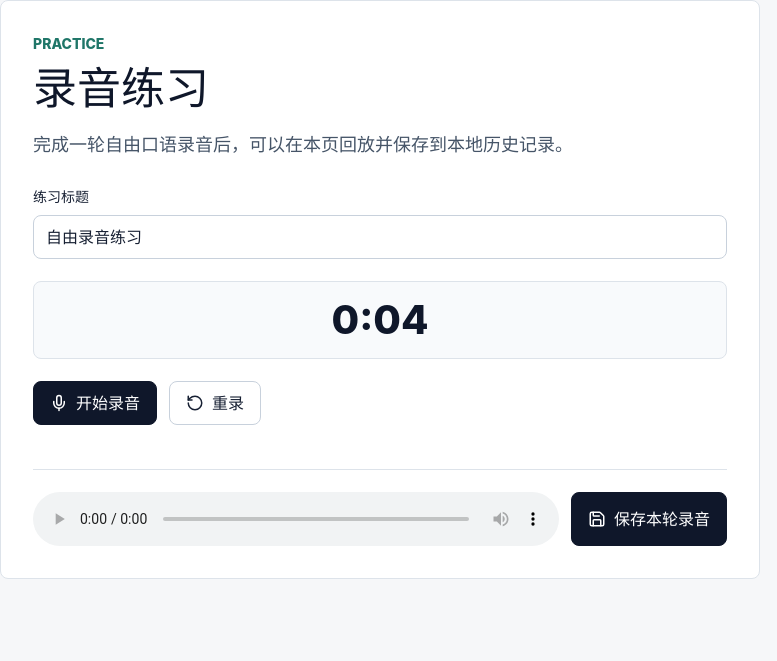
Test: PracticePage recording flow › prevents duplicate saves for the same recording
This screenshot has width=777, height=661.
Click the button "保存本轮录音": (649, 519) [571,492,727,546]
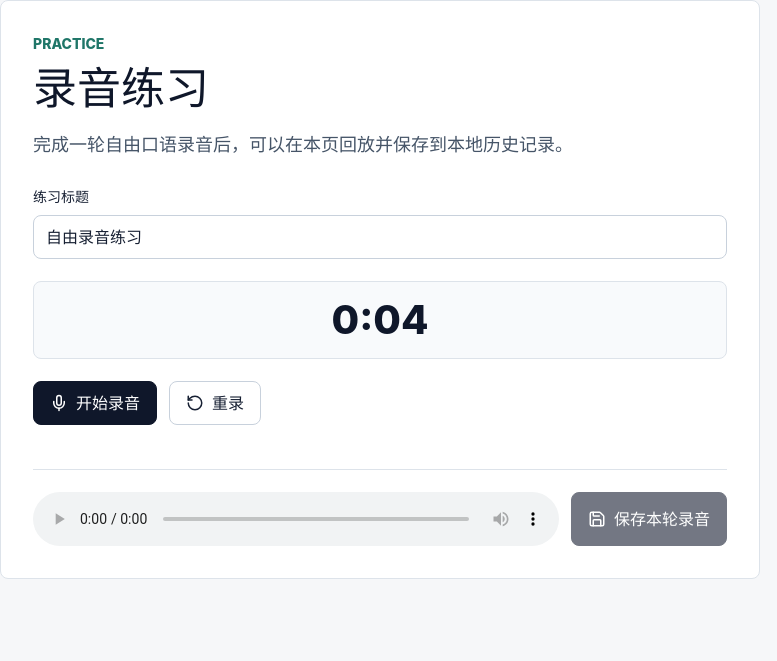
expect the button "保存本轮录音" is disabled: met
Click the button "保存本轮录音": (649, 519) [571,492,727,546]
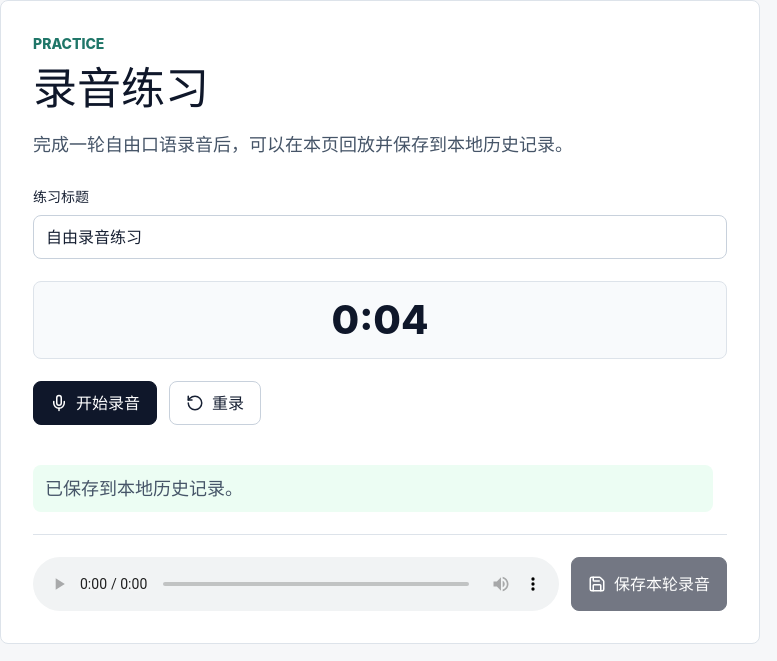
expect the button "保存本轮录音" is disabled: met, box [571,557,727,611]
expect the text "已保存到本地历史记录。" is shown: met, box [33,465,713,512]
